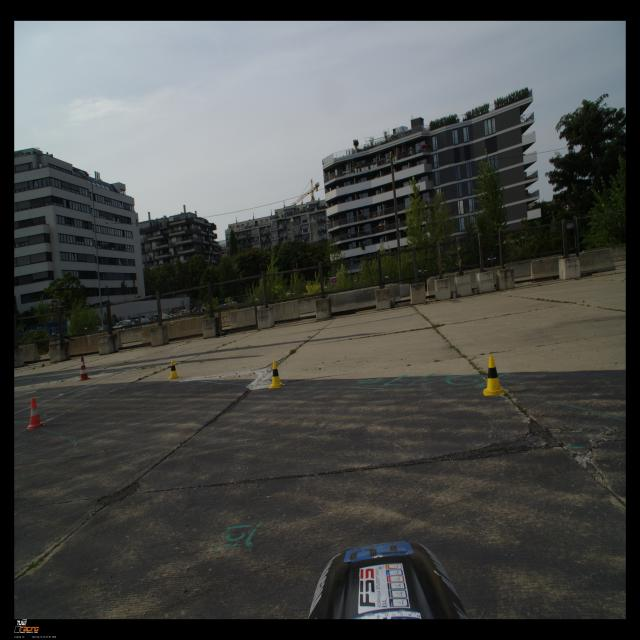large_orange_cone: (78, 356, 91, 381)
orange_cone: (26, 398, 45, 430)
yellow_cone: (483, 355, 505, 396), (268, 361, 285, 388), (168, 360, 180, 380)
